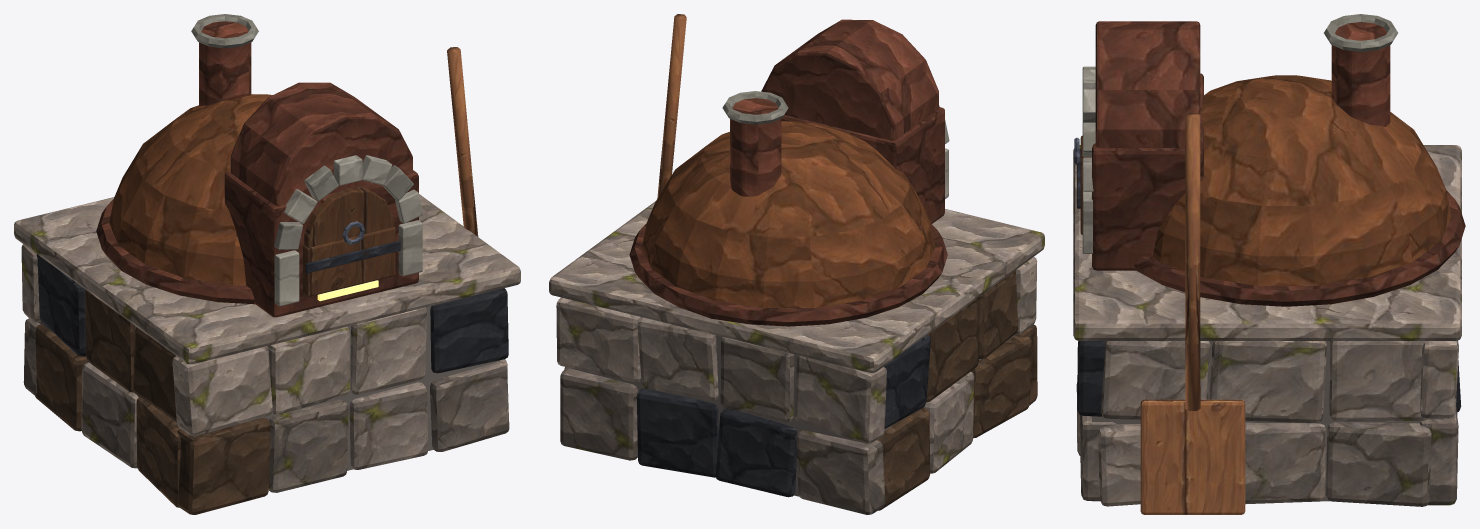
Rendered from bread_oven.glb.
The picture shows the model from 3 angles, left to right: view 1: azimuth 30°, elevation 25°; view 2: azimuth 150°, elevation 25°; view 3: azimuth 270°, elevation 25°; orthographic projection. The views are drawn at different scales.
Visible parts, largest first — view 1: model; view 2: model; view 3: model.
Boxes of the visible parts, box(x1,y1,x2,y2) form: model: box(14, 14, 520, 514); model: box(549, 14, 1044, 514); model: box(1073, 14, 1465, 514).
Bounding box in the file's own units: 1.19 × 1.17 × 1.05.
Materials: 18 (16 with a texture image).
